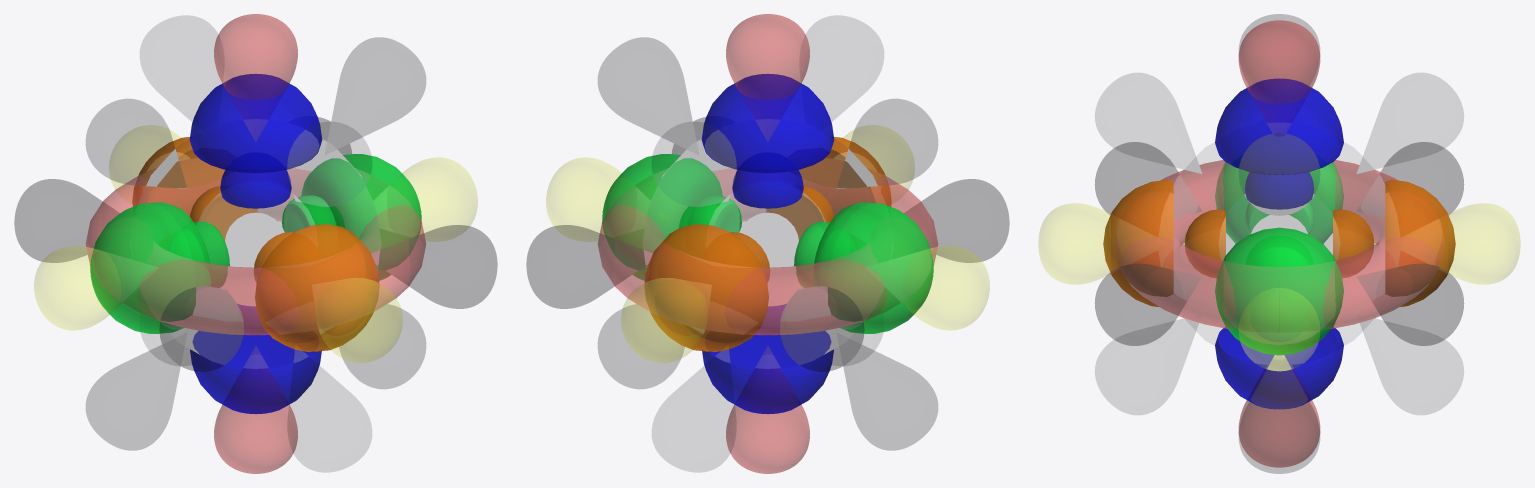
File: OrbitalsChanged.fbx
3 renders of one model, left to right at view 1: azimuth 30°, elevation 25°; view 2: azimuth 150°, elevation 25°; view 3: azimuth 270°, elevation 25°, orthographic. The views are drawn at different scales.
Parts seen in each view (by area): view 1: Sphere_0; view 2: Sphere_0; view 3: Sphere_0.
Part boxes in pixels (x1,y1,x2,y2): Sphere_0: (14,14,497,473); Sphere_0: (526,14,1009,473); Sphere_0: (1038,14,1520,473).
Bounding box in the file's own units: 790 × 790 × 790.
